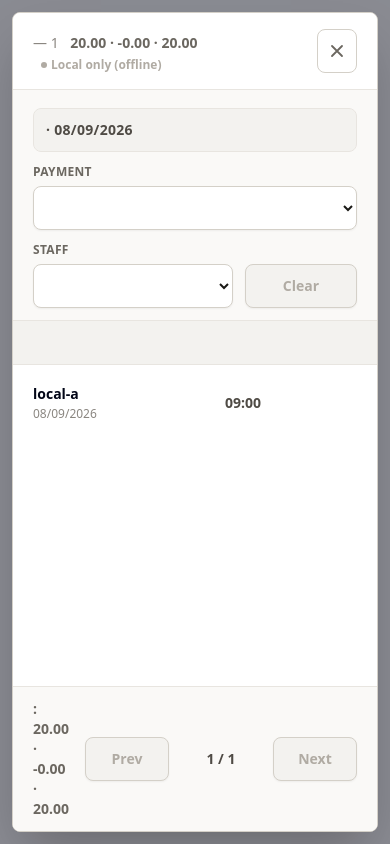
actual shared history screen › surfaces unsupported Android refund printing without invoking sale printing
Step 1. Click the button "local-a 08/09/2026 09:00 20.00 Cashier" → (56, 394), box [13,365,377,441]
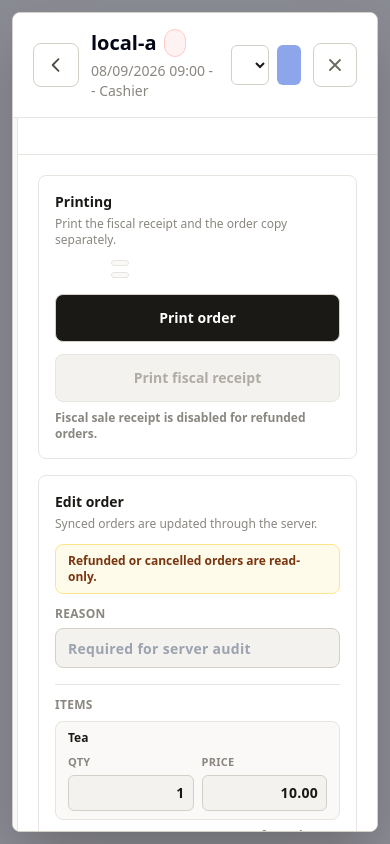
Expected: the button "Print order" is shown
Step 2. Click the button "Print order" → (198, 318), box [55,294,340,342]
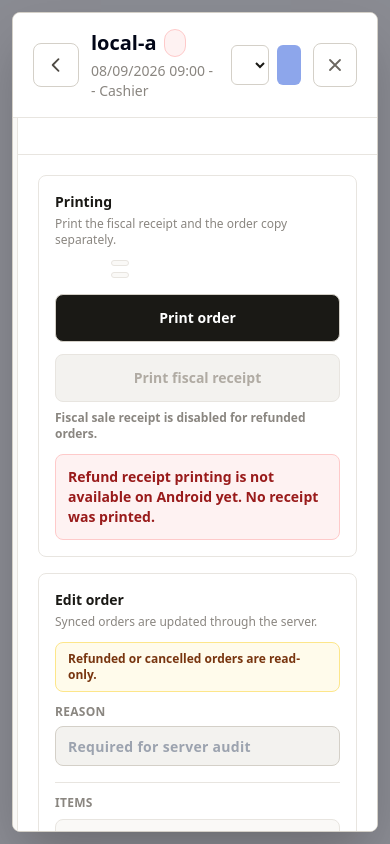
Expected: the text "Refund receipt printing is not available on Android yet. No receipt was printed." is shown, [55,454,340,540]
